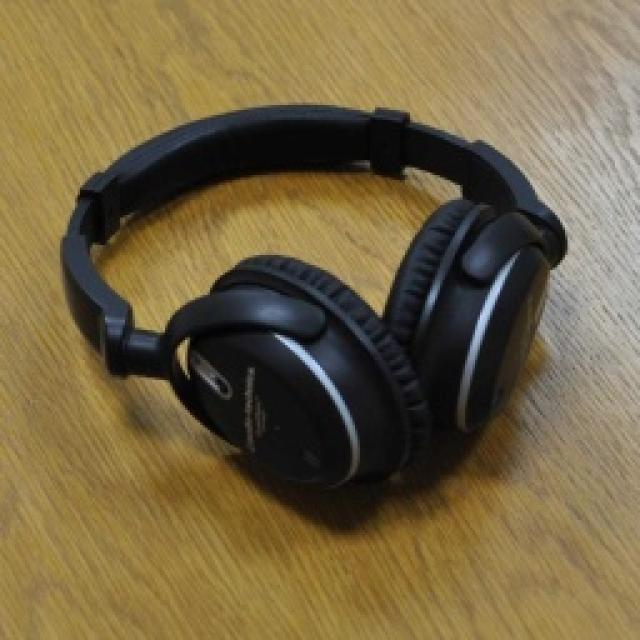headphones: (58, 100, 568, 490)
